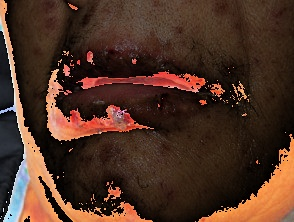SJS-TEN: (35, 21, 246, 160)
